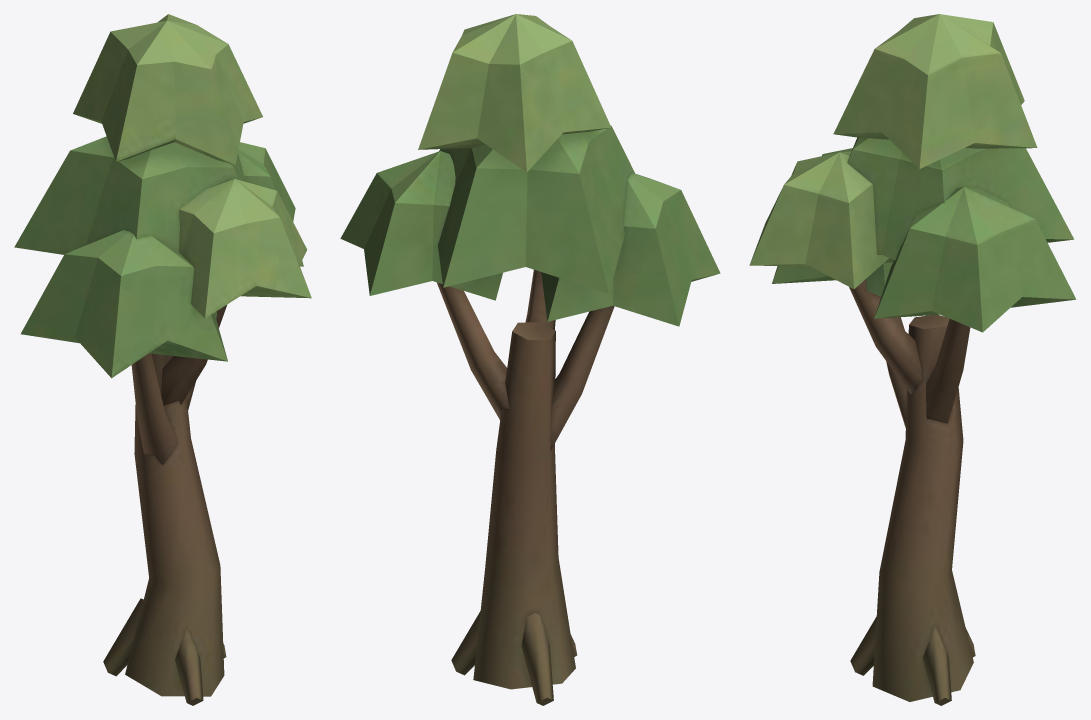
The model's file is arvore_campina_a.glb.
The picture shows the model from 3 angles, left to right: view 1: azimuth 30°, elevation 25°; view 2: azimuth 150°, elevation 25°; view 3: azimuth 270°, elevation 25°; orthographic projection. The views are drawn at different scales.
Parts seen in each view (by area): view 1: arvore_campina_a_corpo; view 2: arvore_campina_a_corpo; view 3: arvore_campina_a_corpo.
Boxes of the visible parts, x1=… form: arvore_campina_a_corpo: x1=14, y1=14, x2=311, y2=705; arvore_campina_a_corpo: x1=340, y1=14, x2=720, y2=705; arvore_campina_a_corpo: x1=749, y1=14, x2=1076, y2=705.
Size of the model in its own units: 0.72 by 1.49 by 0.6617.
Materials: 1 (1 with a texture image).
